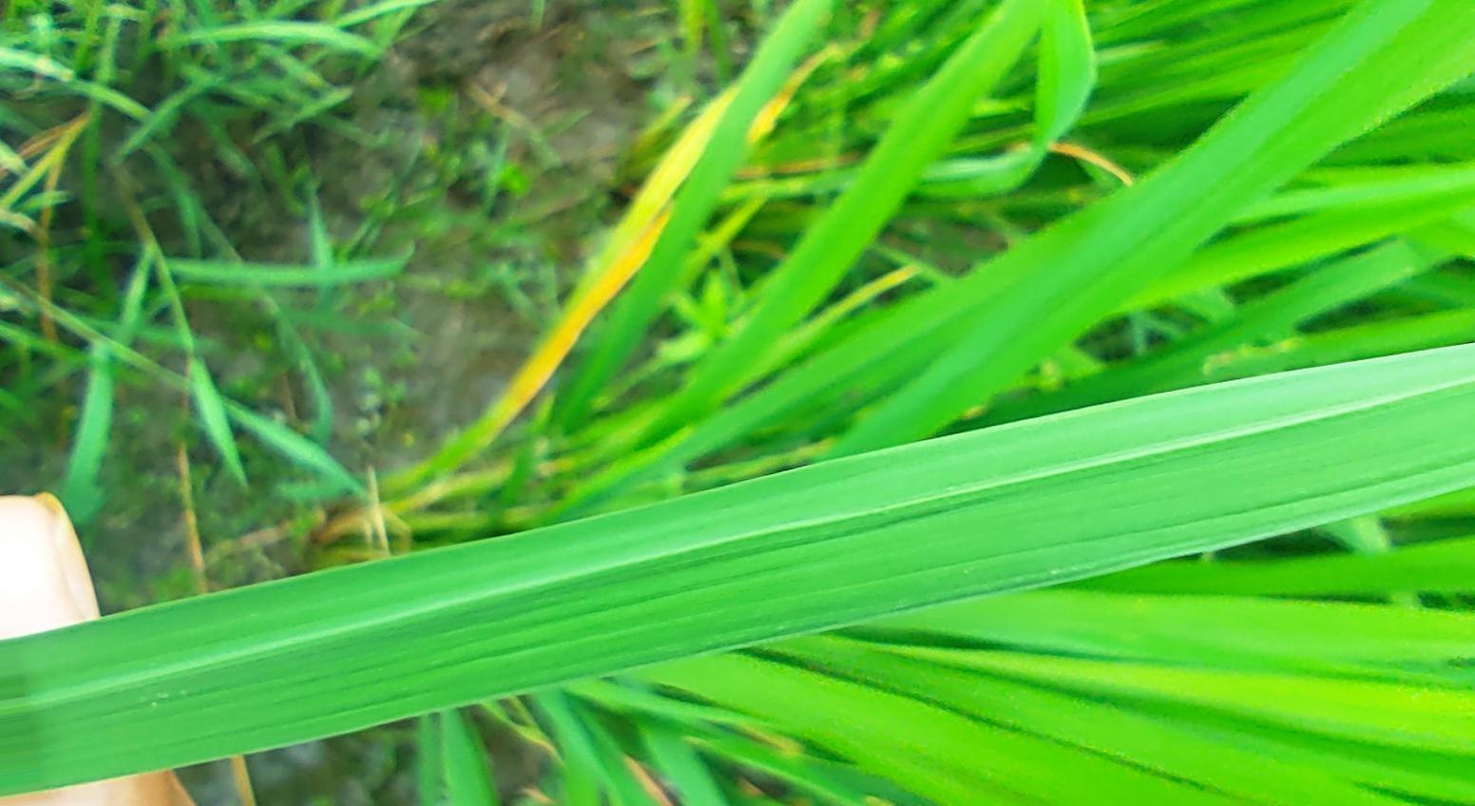Healthy: (19, 345, 1474, 788)
